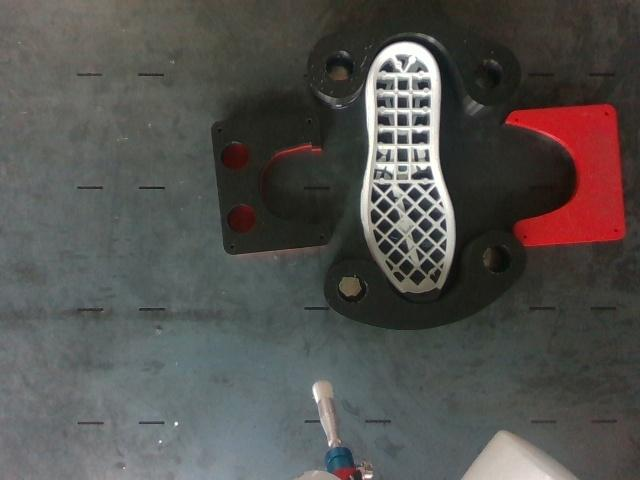shoes: (367, 43, 454, 299)
